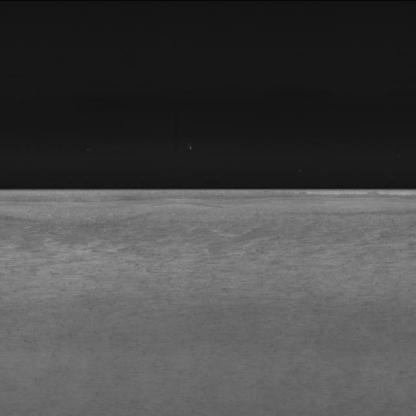silk_spot: (21, 219, 388, 300)
